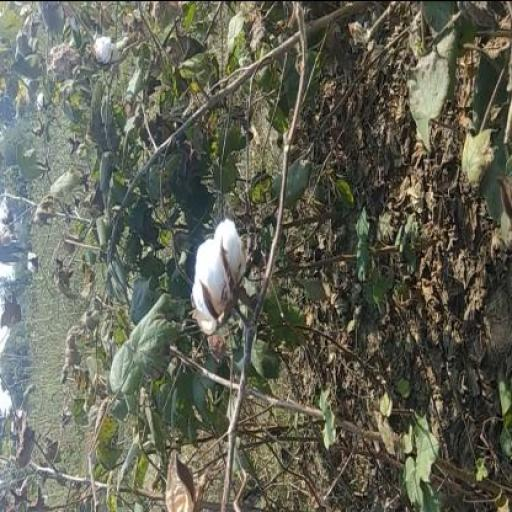cotton_ready: (186, 203, 267, 341)
